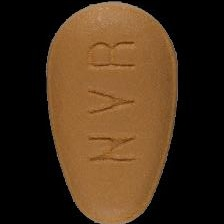54868-4645: (0, 0, 224, 224)
